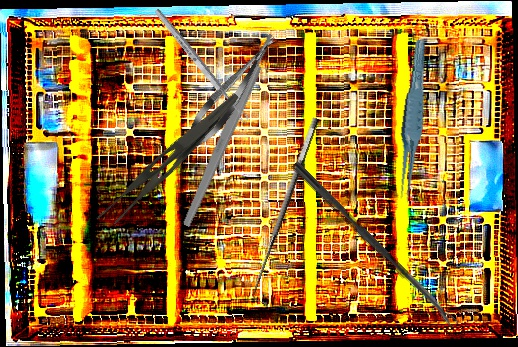Dressing Forceps: (93, 78, 241, 237)
Hook Surgical: (244, 116, 334, 305)
Micro Scissor: (176, 29, 286, 157)
Scalpel Handle: (180, 32, 277, 228)
Surgical Spoon: (290, 161, 459, 329), (152, 7, 251, 125)
Tissue Forceps: (386, 38, 438, 207)
